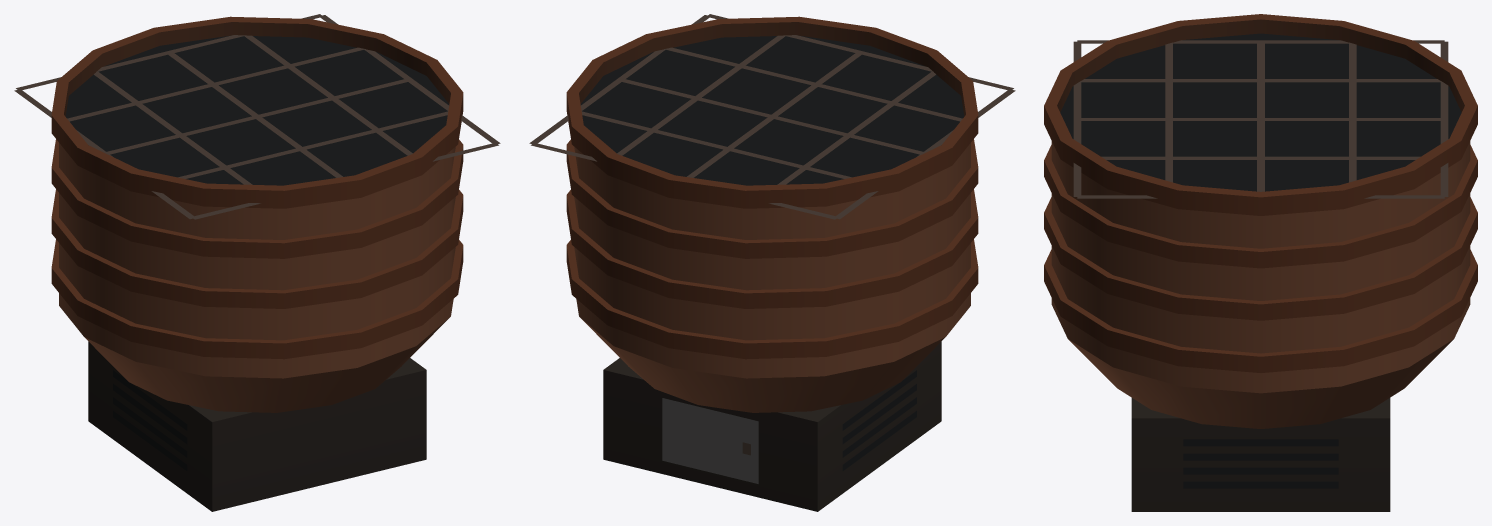
File: hopper.round.rust.glb
3 renders of one model, left to right at view 1: azimuth 30°, elevation 25°; view 2: azimuth 150°, elevation 25°; view 3: azimuth 270°, elevation 25°, orthographic. The views are drawn at different scales.
Parts seen in each view (by area): view 1: hopper_round_rust; view 2: hopper_round_rust; view 3: hopper_round_rust.
Boxes of the visible parts, left/top/right/bottom form: hopper_round_rust: left=14, top=14, right=500, bottom=511; hopper_round_rust: left=529, top=14, right=1015, bottom=511; hopper_round_rust: left=1044, top=14, right=1477, bottom=511.
Size of what is drawn, in the model's own units: 3.36 by 3 by 3.36.
